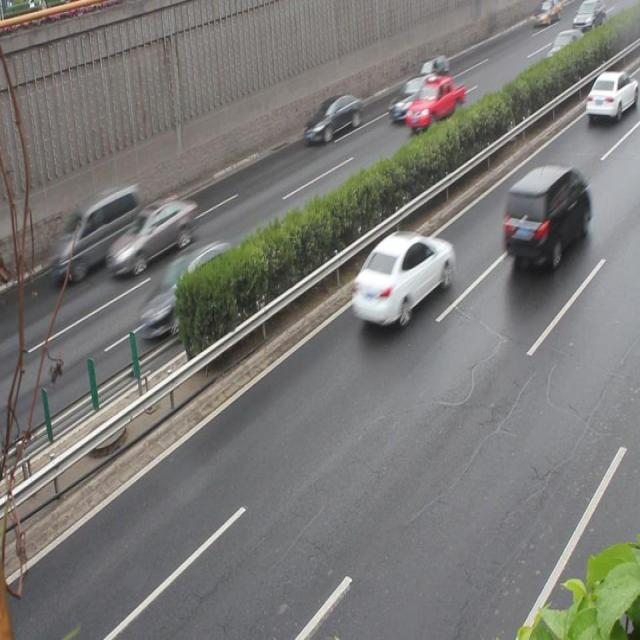car: (352, 229, 454, 324), (503, 164, 590, 266), (149, 239, 238, 325), (111, 194, 195, 280), (302, 91, 362, 146), (406, 75, 463, 128), (584, 70, 640, 122), (388, 70, 441, 121)
truck: (52, 178, 140, 288)
